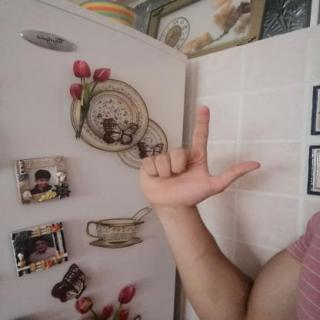LAAM: (130, 99, 268, 218)
